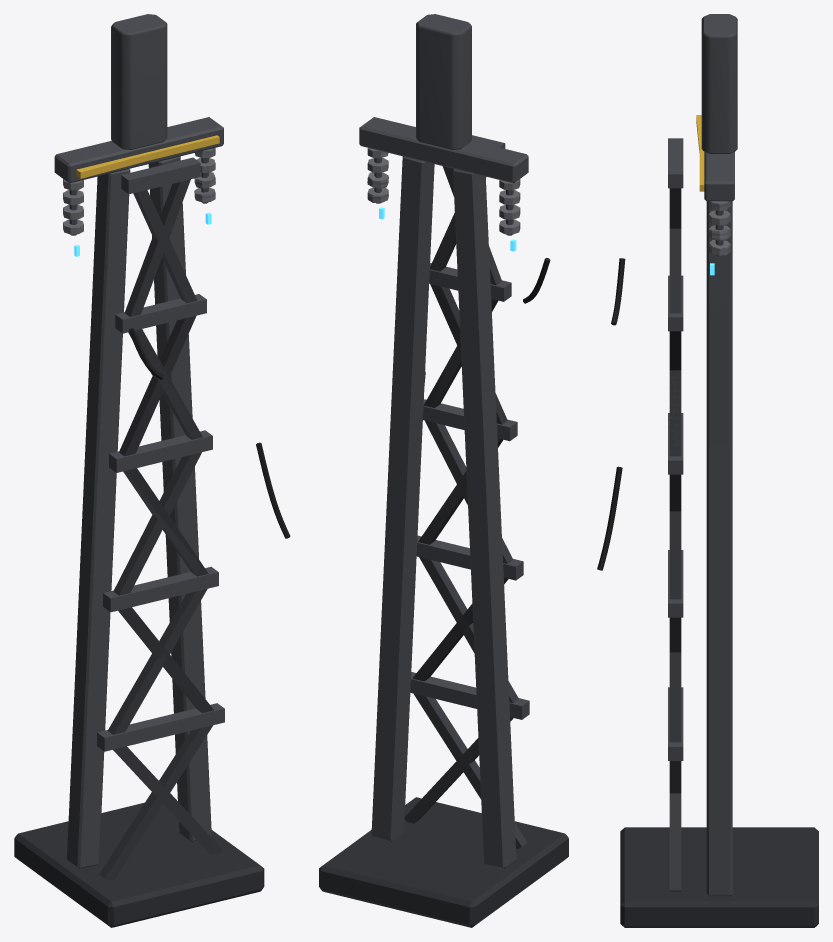
File: nvg_cmp_grid_pylon_b.glb
The picture shows the model from 3 angles, left to right: view 1: azimuth 30°, elevation 25°; view 2: azimuth 150°, elevation 25°; view 3: azimuth 270°, elevation 25°; orthographic projection.
Parts seen in each view (by area): view 1: mesh_heavy, mesh_intact, mesh_light; view 2: mesh_heavy, mesh_intact, mesh_light; view 3: mesh_heavy, mesh_intact, mesh_light.
Part boxes in pixels (x1=…): mesh_heavy: x1=14, y1=14, x2=290, y2=927; mesh_intact: x1=63, y1=135, x2=219, y2=866; mesh_light: x1=57, y1=14, x2=223, y2=734; mesh_heavy: x1=319, y1=14, x2=568, y2=927; mesh_intact: x1=367, y1=148, x2=520, y2=860; mesh_light: x1=360, y1=14, x2=525, y2=702; mesh_heavy: x1=597, y1=14, x2=818, y2=927; mesh_intact: x1=668, y1=115, x2=732, y2=895; mesh_light: x1=669, y1=14, x2=737, y2=650.
Bounding box in the file's own units: 0.5431 × 2.6 × 0.6035.
